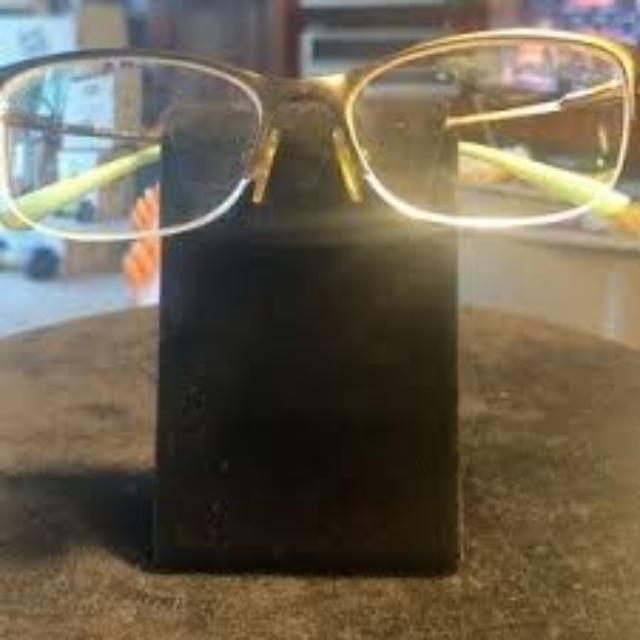mask: (0, 32, 638, 238)
